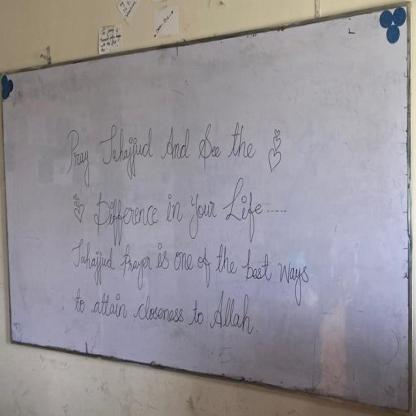Handwritten text: (58, 108, 263, 186), (65, 236, 317, 297), (68, 269, 259, 346), (87, 174, 272, 249)
Whiteboard: (0, 5, 410, 415)
